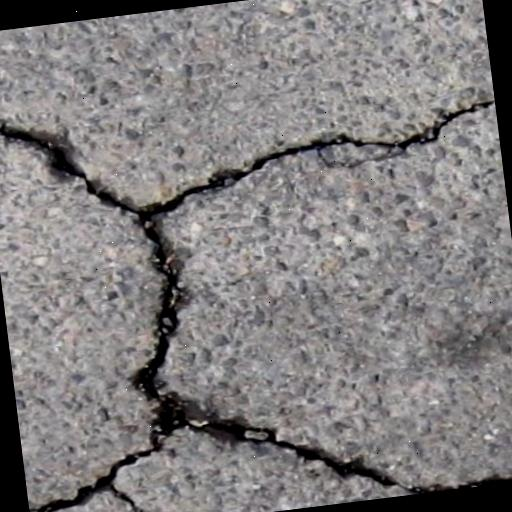spalling: (0, 92, 512, 512)
